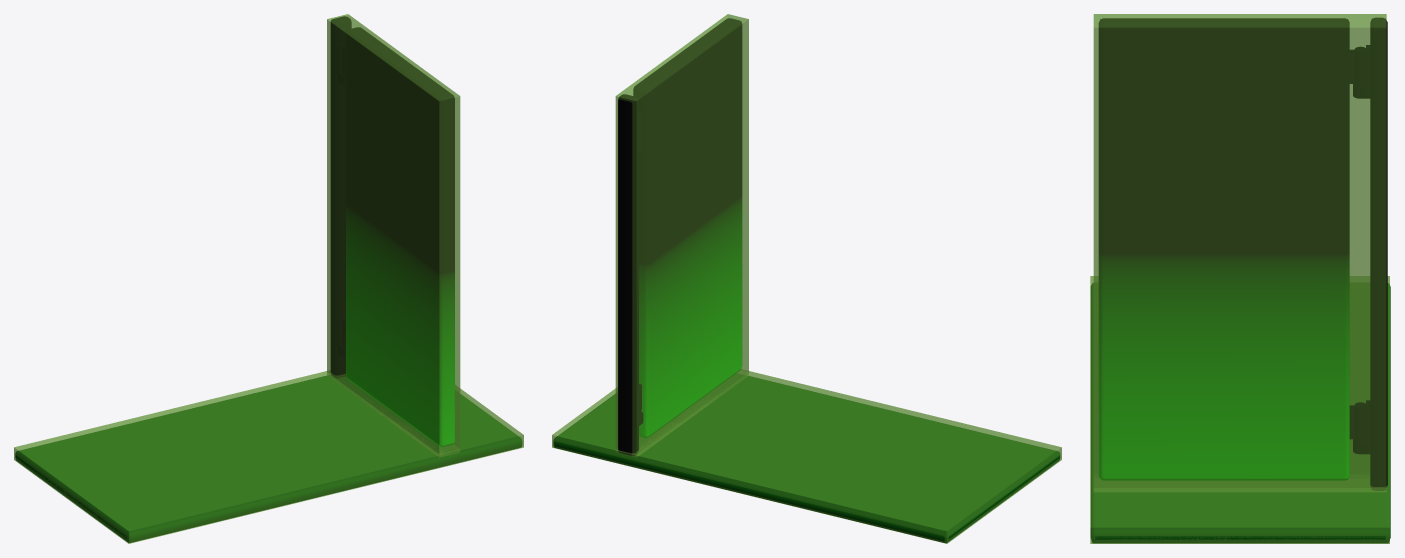
Rendered from M_md_Door_50cm_01.fbx.
3 renders of one model, left to right at view 1: azimuth 30°, elevation 25°; view 2: azimuth 150°, elevation 25°; view 3: azimuth 270°, elevation 25°, orthographic. The views are drawn at different scales.
Visible parts, largest first — view 1: M_md_Door_50cm_01_LOD0, M_md_Door_50cm_01_col_02, M_md_Door_50cm_01_col_01; view 2: M_md_Door_50cm_01_LOD0, M_md_Door_50cm_01_col_02, M_md_Door_50cm_01_col_01; view 3: M_md_Door_50cm_01_LOD0, M_md_Door_50cm_01_col_02, M_md_Door_50cm_01_col_01.
Boxes of the visible parts, x1,y1,x2,y2 form: M_md_Door_50cm_01_LOD0: (15, 16, 522, 542); M_md_Door_50cm_01_col_02: (327, 14, 460, 457); M_md_Door_50cm_01_col_01: (14, 371, 523, 543); M_md_Door_50cm_01_LOD0: (553, 18, 1060, 542); M_md_Door_50cm_01_col_02: (615, 14, 748, 457); M_md_Door_50cm_01_col_01: (552, 370, 1061, 543); M_md_Door_50cm_01_LOD0: (1090, 17, 1390, 543); M_md_Door_50cm_01_col_02: (1093, 14, 1386, 491); M_md_Door_50cm_01_col_01: (1090, 276, 1389, 543).
Size of what is drawn, in the model's own units: 100 by 88.42 by 50.44.
